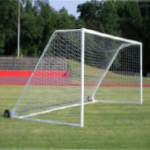goals: (13, 26, 144, 129)
